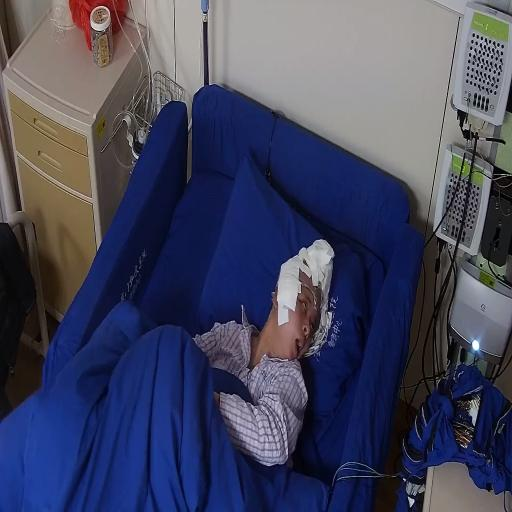Seizure: (269, 229, 325, 376)
